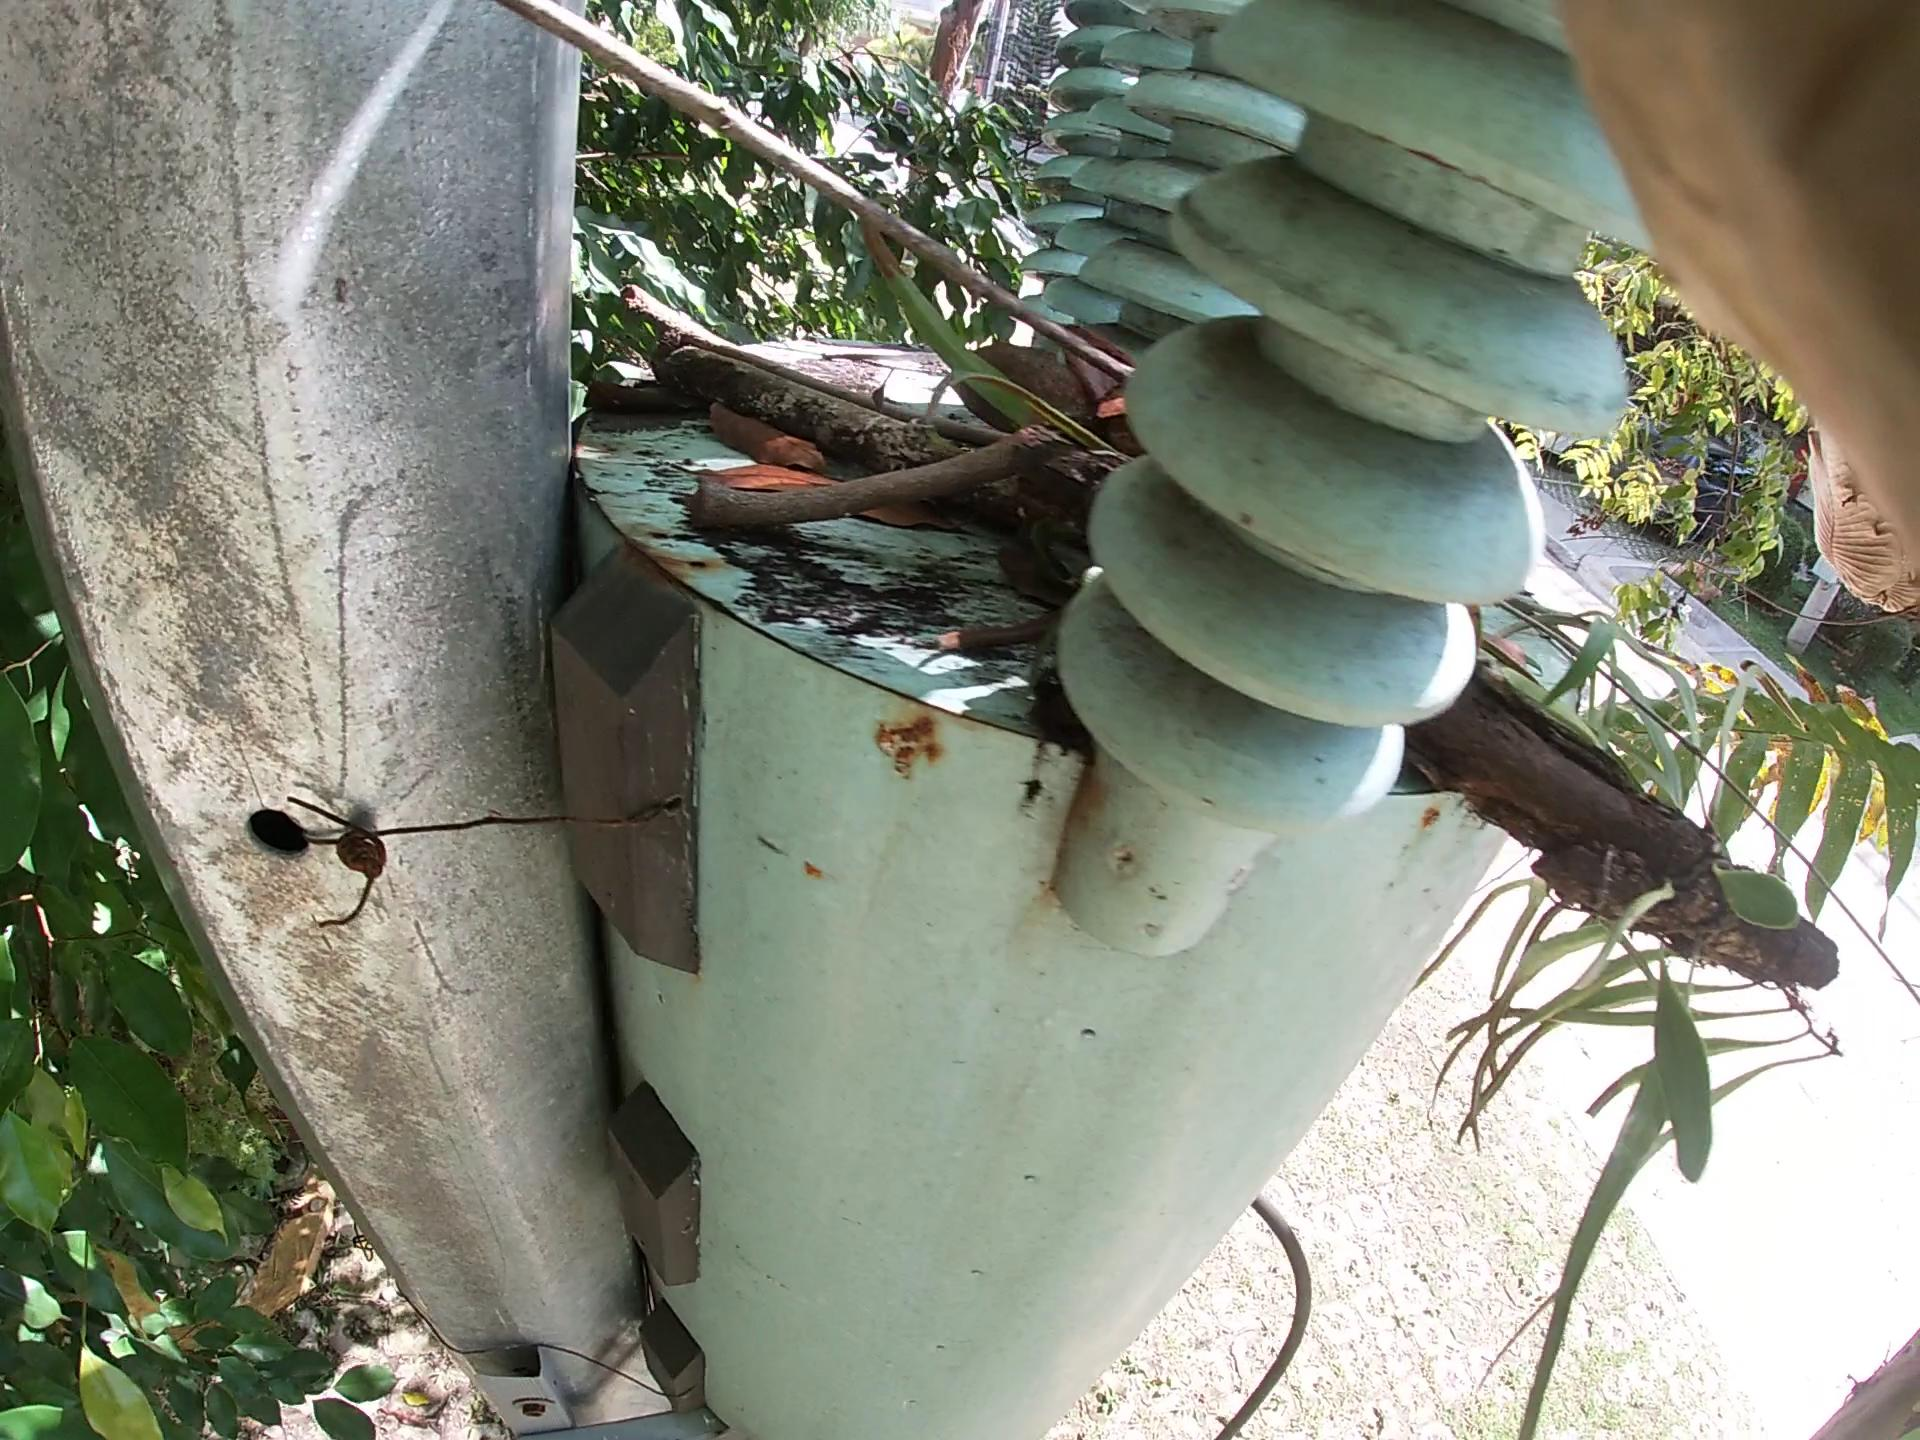branch with leaves: (692, 306, 1810, 905)
leaf: (705, 393, 910, 601)
mahogany fruit: (928, 315, 1217, 542)
tree branch: (561, 5, 1483, 582), (665, 405, 1061, 551), (624, 284, 848, 402)
